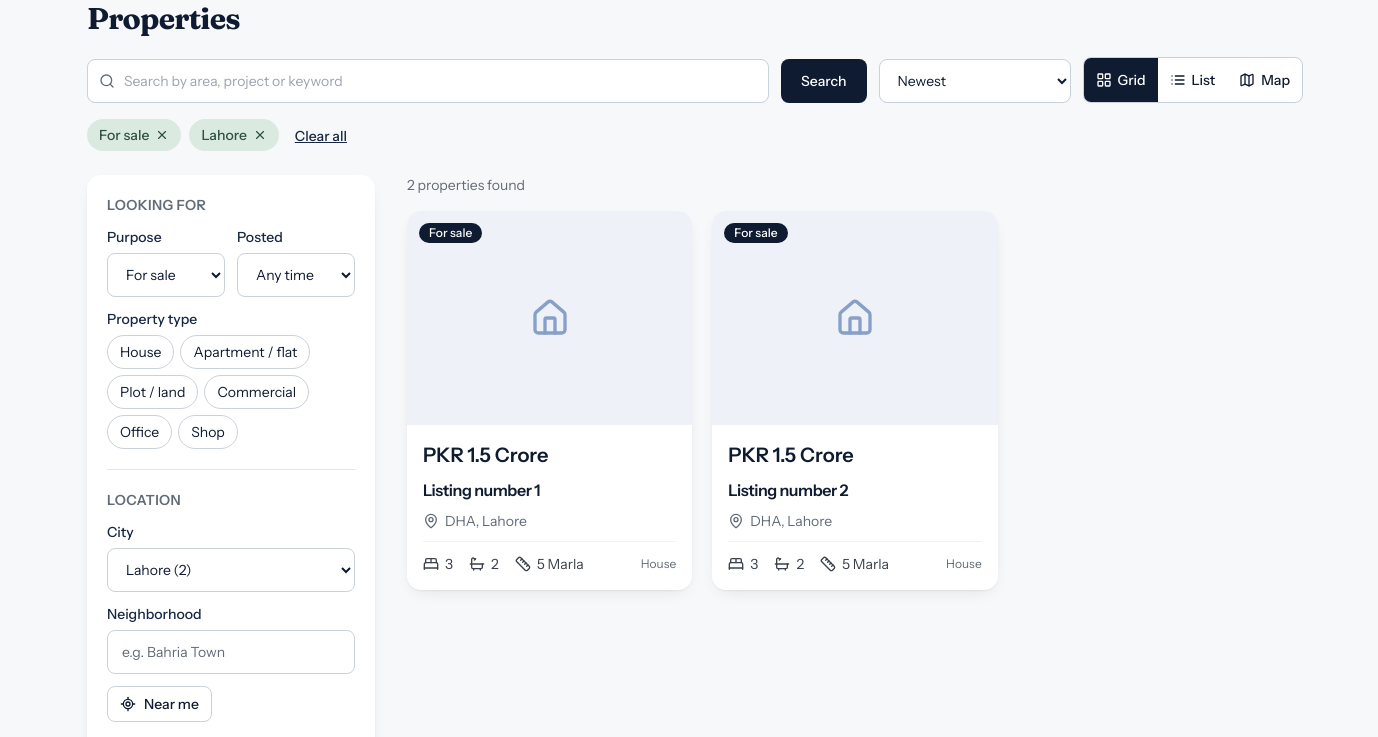
Test: search page › removing a chip updates the URL and resets to page 1; "Clear all" empties it
Expected: the link "Listing number 1" is shown, [423,480,540,500]
Click the button with aria-label "Remove filter: Lahore". click: (234, 135)
box: [189,119,279,151]
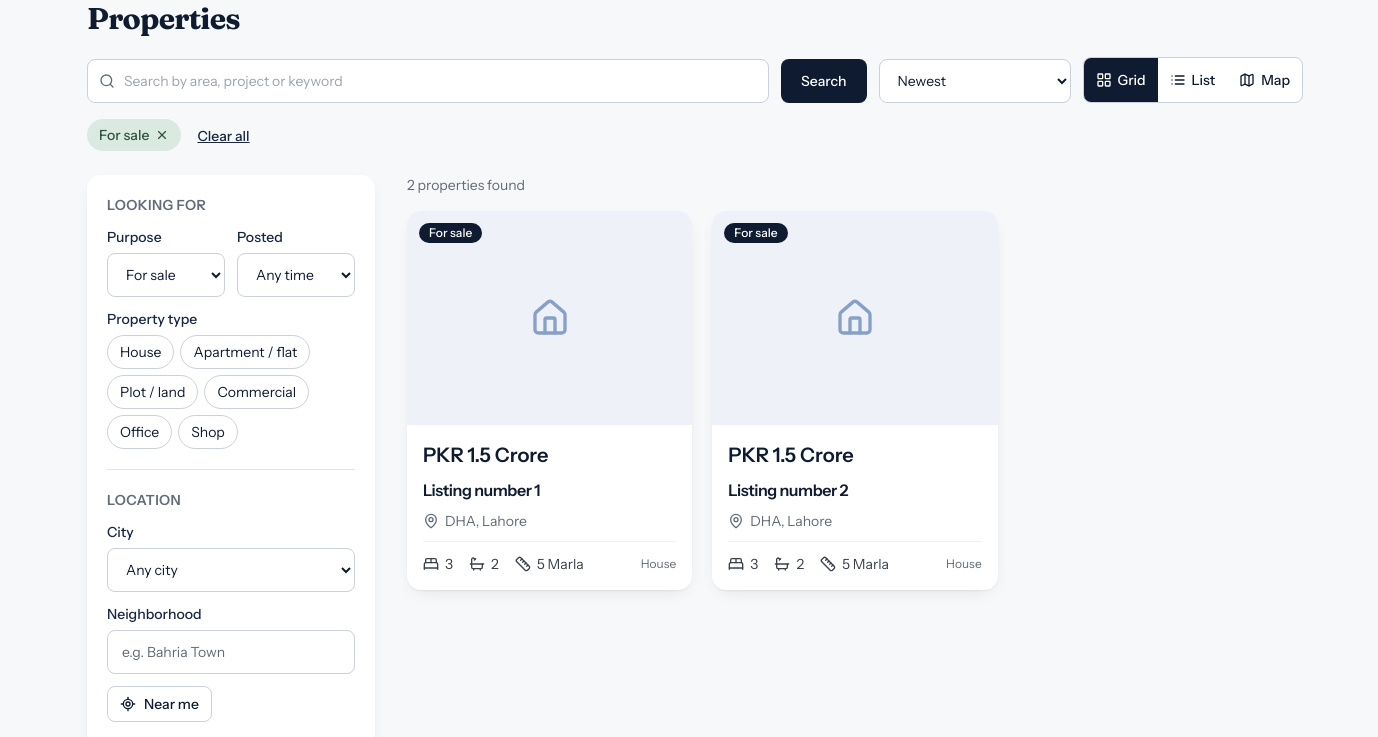
Click the button "Clear all". click: (224, 136)
box: [189,126,258,146]
(page scrolled)
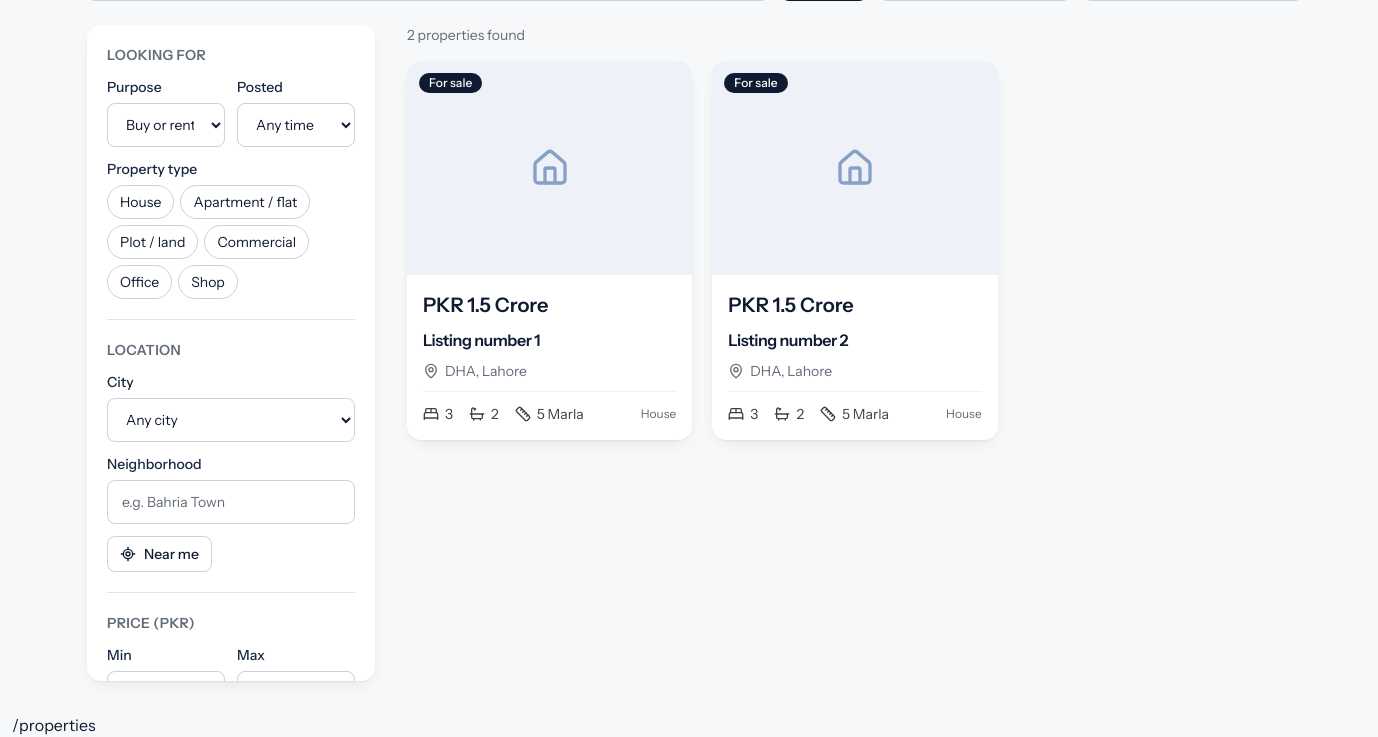
Now the text with test id "url" reads "/properties", box [12,715,94,735]
